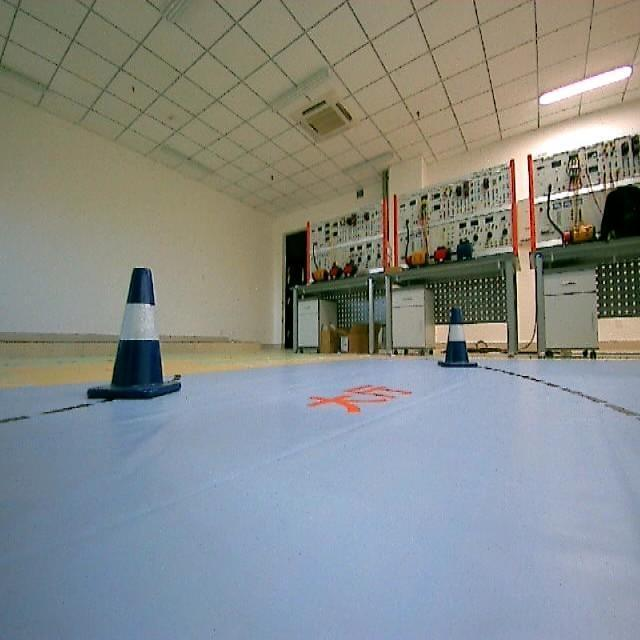obstacle: (87, 260, 187, 408), (422, 302, 480, 373)
